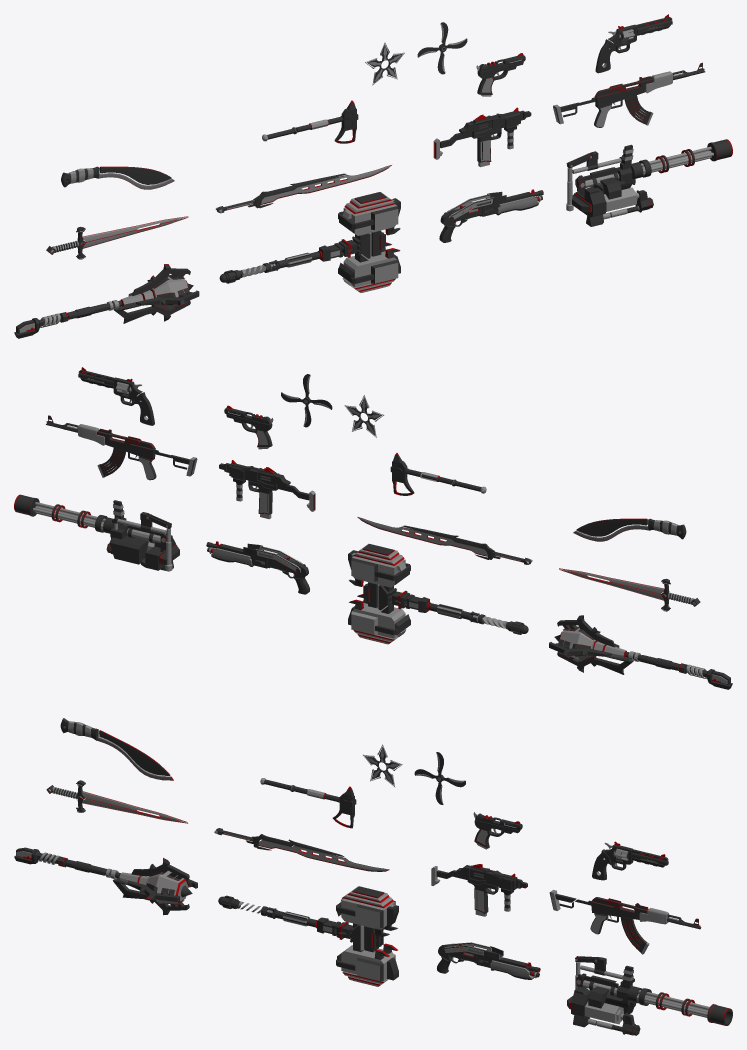
The model's file is weapons_all.fbx.
3 renders of one model, top to bottom at view 1: azimuth 30°, elevation 25°; view 2: azimuth 150°, elevation 25°; view 3: azimuth 330°, elevation 25°, orthographic.
Visible parts, largest first — view 1: warHammer, minigun, mace, ak, uzi, shotgun, machete, katana, revolver, sword, axe, pistol (+2 smaller); view 2: warHammer, minigun, mace, ak, uzi, shotgun, machete, katana, revolver, sword, axe, pistol (+2 smaller); view 3: warHammer, minigun, mace, ak, uzi, shotgun, machete, katana, revolver, sword, axe, pistol (+2 smaller).
Part boxes in pixels (x1=…): warHammer: x1=219, y1=192, x2=400, y2=292; minigun: x1=566, y1=139, x2=732, y2=226; mace: x1=14, y1=264, x2=199, y2=338; ak: x1=553, y1=62, x2=705, y2=127; uzi: x1=433, y1=107, x2=531, y2=167; shotgun: x1=439, y1=189, x2=543, y2=242; machete: x1=61, y1=166, x2=174, y2=189; katana: x1=215, y1=165, x2=391, y2=213; revolver: x1=595, y1=14, x2=672, y2=73; sword: x1=46, y1=216, x2=188, y2=259; axe: x1=262, y1=100, x2=358, y2=143; pistol: x1=476, y1=53, x2=525, y2=96; warHammer: x1=348, y1=543, x2=528, y2=644; minigun: x1=14, y1=494, x2=179, y2=571; mace: x1=549, y1=615, x2=732, y2=689; ak: x1=46, y1=415, x2=197, y2=480; uzi: x1=219, y1=460, x2=315, y2=519; shotgun: x1=206, y1=541, x2=309, y2=594; machete: x1=573, y1=518, x2=686, y2=541; katana: x1=357, y1=517, x2=532, y2=564; revolver: x1=78, y1=367, x2=154, y2=425; sword: x1=559, y1=568, x2=700, y2=611; axe: x1=390, y1=453, x2=486, y2=495; pistol: x1=224, y1=405, x2=273, y2=449; warHammer: x1=218, y1=886, x2=398, y2=986; minigun: x1=567, y1=956, x2=732, y2=1035; mace: x1=14, y1=847, x2=197, y2=915; ak: x1=549, y1=889, x2=701, y2=954; uzi: x1=431, y1=864, x2=527, y2=916; shotgun: x1=437, y1=942, x2=540, y2=979; machete: x1=60, y1=718, x2=173, y2=780; katana: x1=214, y1=828, x2=389, y2=871; revolver: x1=592, y1=841, x2=668, y2=880; sword: x1=46, y1=780, x2=187, y2=823; axe: x1=260, y1=778, x2=356, y2=828; pistol: x1=473, y1=812, x2=522, y2=849.
Bounding box in the file's own units: 161 × 53.4 × 13.14.
